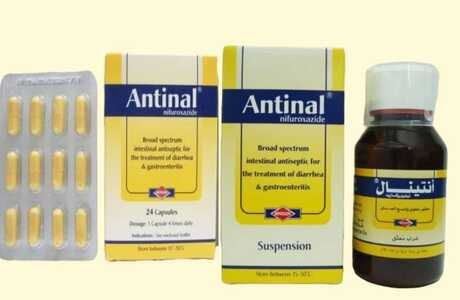Medicine: (219, 41, 347, 291), (100, 49, 219, 266), (353, 59, 455, 288)
